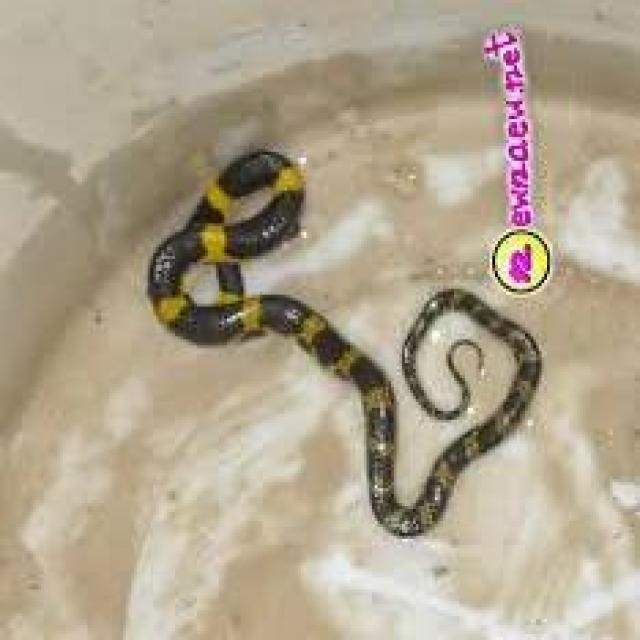Venomous: (197, 156, 298, 254)
